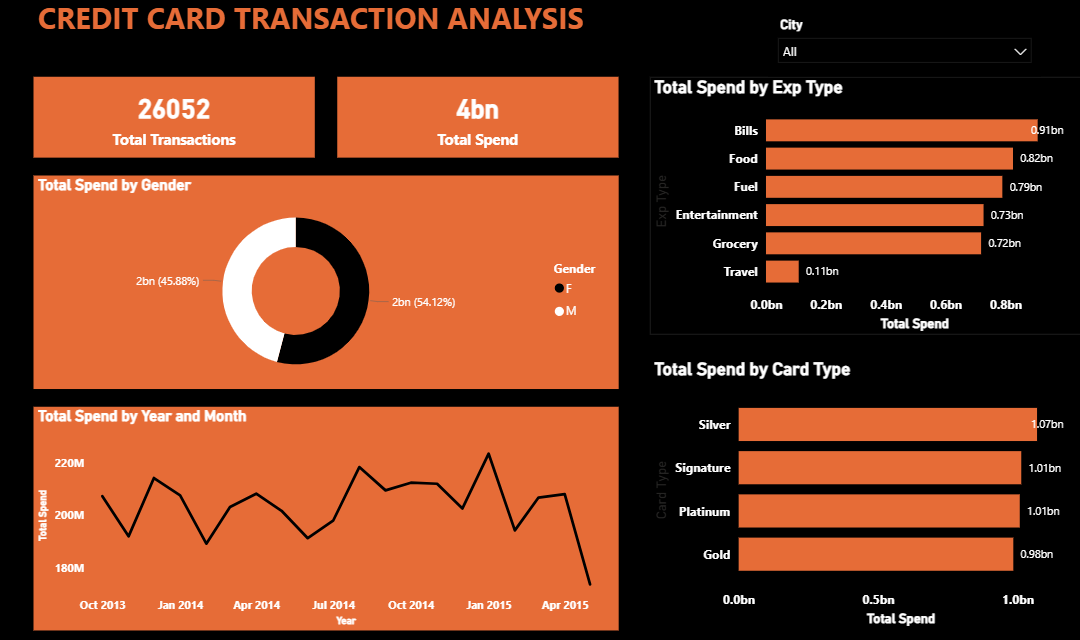

What the dashboard file says about the page in this screenshot:
{"tool":"powerbi","page":{"name":"Page 1","canvas":[1280,720],"ordinal":0},"visuals":[{"type":"card","fields":{"Values":["Credit Card Transactions.Total Transactions"]},"box":[46.7,71.4,308.7,89.2],"z":0},{"type":"textbox","box":[46.7,0,617.5,56.3],"z":2},{"type":"clusteredBarChart","fields":{"Y":["Credit Card Transactions.Total Spend"],"Category":["Credit Card Transactions.Exp Type"]},"box":[723.2,71.4,477.5,284],"z":3},{"type":"clusteredBarChart","fields":{"Y":["Credit Card Transactions.Total Spend"],"Category":["Credit Card Transactions.Card Type"]},"box":[723.2,381.5,477.5,297.8],"z":4},{"type":"donutChart","fields":{"Category":["Credit Card Transactions.Gender"],"Y":["Credit Card Transactions.Total Spend"]},"box":[46.7,179.8,642.2,234.6],"z":5},{"type":"lineChart","fields":{"Y":["Credit Card Transactions.Total Spend"],"Category":["Credit Card Transactions.Date.Variation.Date Hierarchy.Year","Credit Card Transactions.Date.Variation.Date Hierarchy.Month"]},"box":[46.7,433.6,642.2,245.6],"z":6},{"type":"card","fields":{"Values":["Credit Card Transactions.Total Spend"]},"box":[380.1,71.4,308.7,89.2],"z":7},{"type":"slicer","fields":{"Values":["Credit Card Transactions.City"]},"box":[856.3,0,299.1,71.4],"z":8}]}

Visuals, with their boxes in screenshot pixels (x1, y1, x2, y2):
card - Credit Card Transactions.Total Transactions: (left=32, top=76, right=298, bottom=153)
textbox: (left=32, top=14, right=565, bottom=63)
clusteredBarChart - Credit Card Transactions.Total Spend x Credit Card Transactions.Exp Type: (left=615, top=76, right=1027, bottom=321)
clusteredBarChart - Credit Card Transactions.Total Spend x Credit Card Transactions.Card Type: (left=615, top=343, right=1027, bottom=600)
donutChart - Credit Card Transactions.Gender x Credit Card Transactions.Total Spend: (left=32, top=169, right=586, bottom=372)
lineChart - Credit Card Transactions.Total Spend x Credit Card Transactions.Date.Variation.Date Hierarchy.Year: (left=32, top=388, right=586, bottom=600)
card - Credit Card Transactions.Total Spend: (left=319, top=76, right=586, bottom=153)
slicer - Credit Card Transactions.City: (left=730, top=14, right=988, bottom=76)
